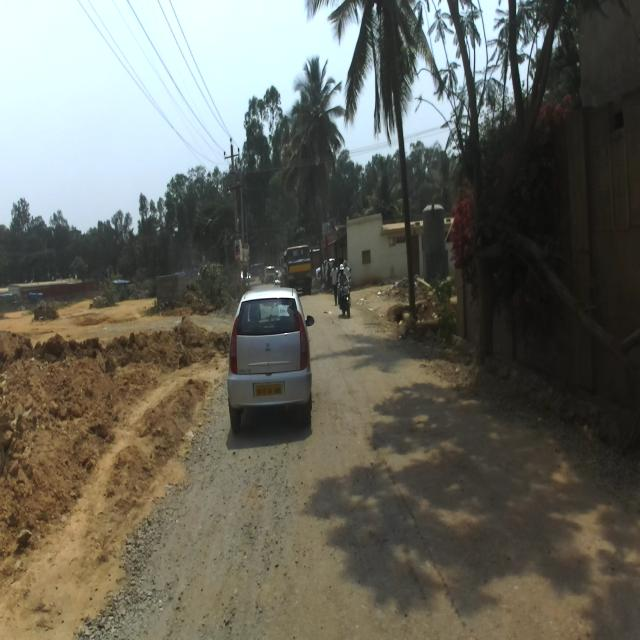car ahead at: (227, 287, 315, 427), (388, 103, 435, 336)
